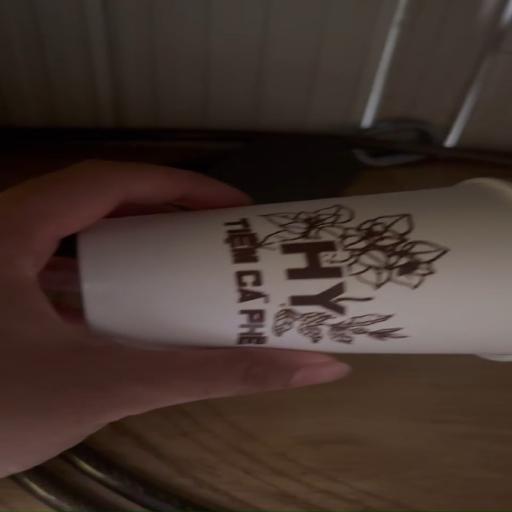ly_giay: (77, 177, 511, 359)
